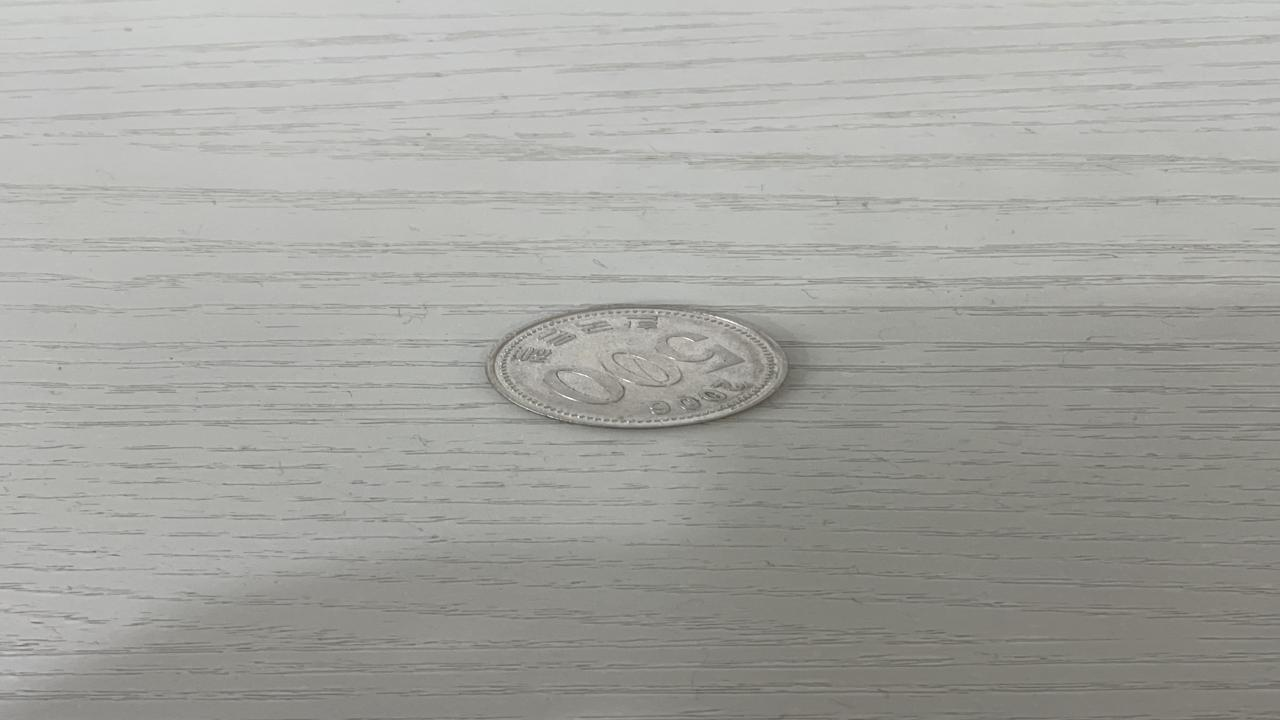coin: (483, 304, 795, 431)
